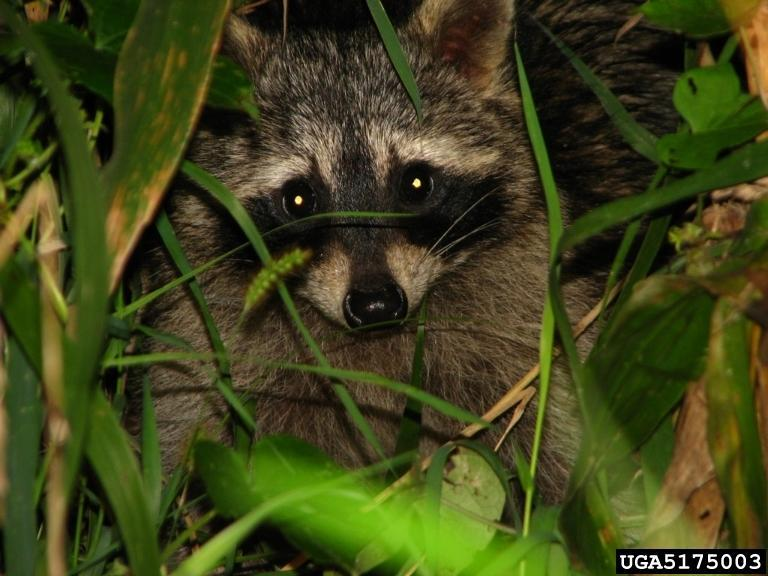raccoon: (125, 0, 689, 509)
